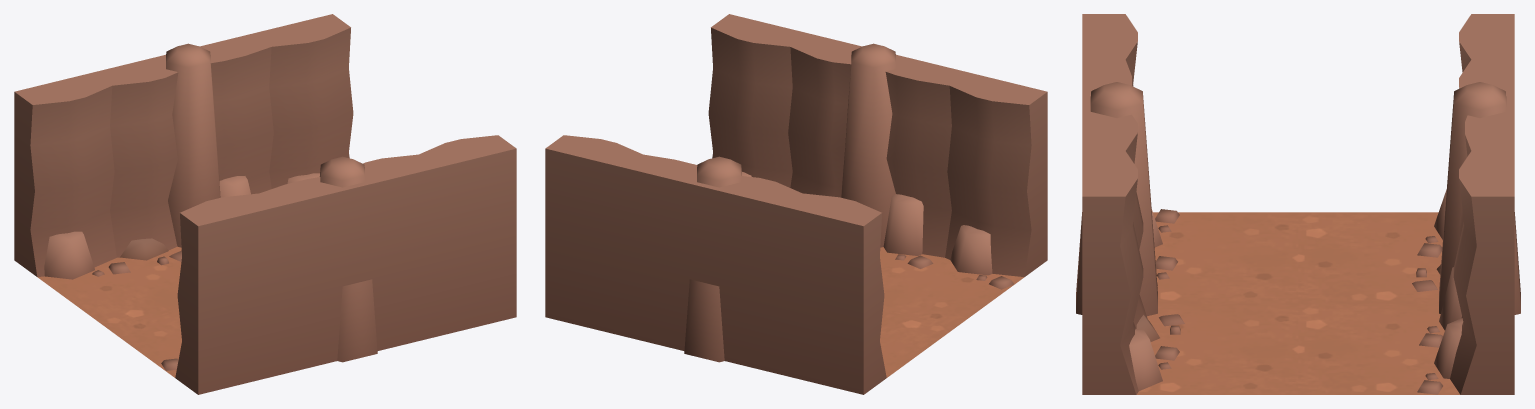
Rendered from corridor-wide.obj.
3 views of the same model, side by side, from view 1: azimuth 30°, elevation 25°; view 2: azimuth 150°, elevation 25°; view 3: azimuth 270°, elevation 25° (orthographic). The views are drawn at different scales.
Visible parts, largest first — view 1: corridor-wide; view 2: corridor-wide; view 3: corridor-wide.
Part boxes in pixels (x1,y1,x2,y2): corridor-wide: [14, 14, 516, 394]; corridor-wide: [545, 14, 1047, 394]; corridor-wide: [1076, 14, 1520, 394].
Size of the model in its own units: 8 by 4.4 by 8.23.
Materials: 1 (1 with a texture image).
